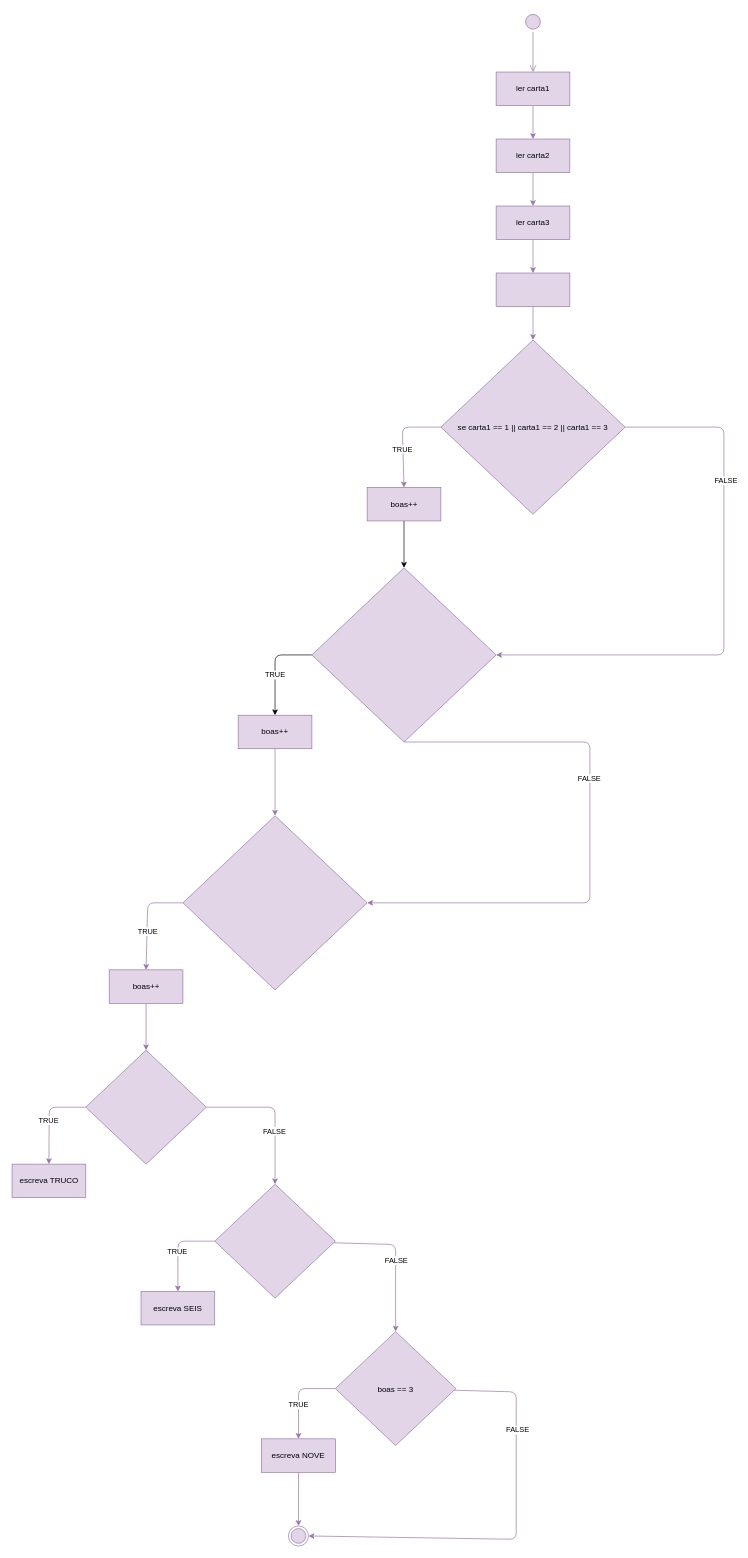
Image size: 748x1558. Some labels were removed from this diagram. Here are the shapes that lost their labels. From the top down, the centre of each, then its label:
the point at 532,289: boas = 0
the point at 403,654: se carta2 == 1 || carta2 == 2 || carta2 == 3
the point at 274,902: se carta3 == 1 || carta3 == 2 || carta3 == 3
the point at 145,1107: boas == 1
the point at 274,1241: boas == 2
